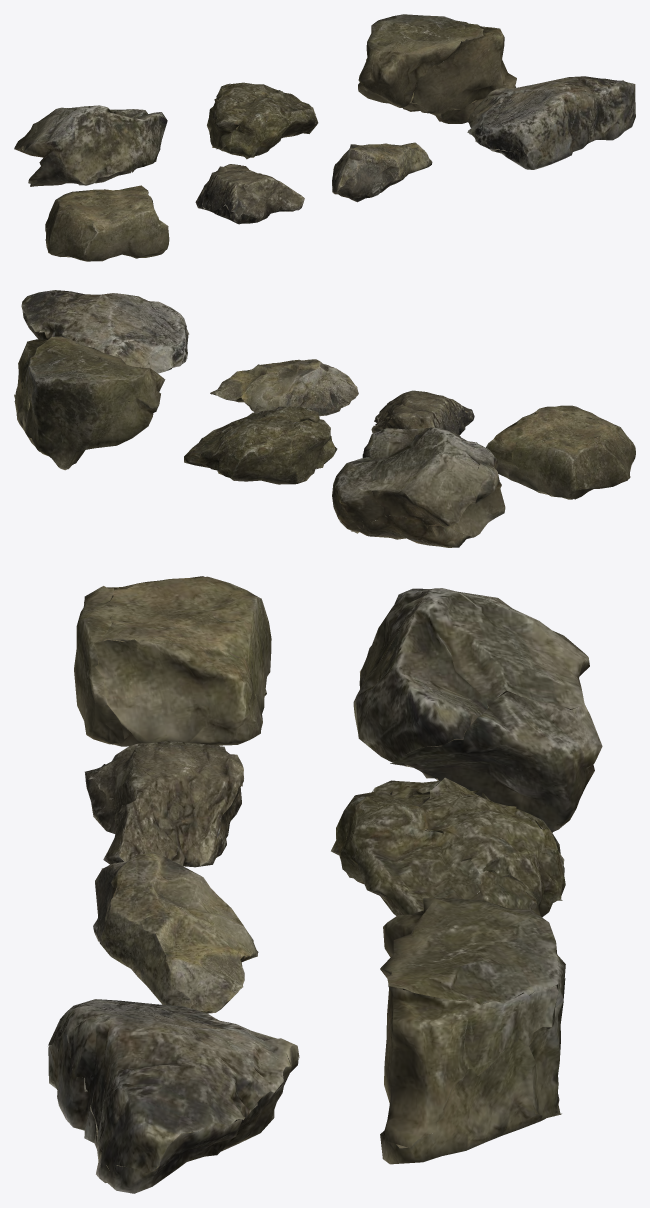
File: rock_moss_set_02.glb
3 renders of one model, top to bottom at view 1: azimuth 30°, elevation 25°; view 2: azimuth 150°, elevation 25°; view 3: azimuth 270°, elevation 25°, orthographic. The views are drawn at different scales.
Parts seen in each view (by area): view 1: rock_moss_set_02_rock13, rock_moss_set_02_rock10, rock_moss_set_02_rock11, rock_moss_set_02_rock07, rock_moss_set_02_rock12, rock_moss_set_02_rock08, rock_moss_set_02_rock09; view 2: rock_moss_set_02_rock11, rock_moss_set_02_rock13, rock_moss_set_02_rock07, rock_moss_set_02_rock10, rock_moss_set_02_rock12, rock_moss_set_02_rock09, rock_moss_set_02_rock08; view 3: rock_moss_set_02_rock13, rock_moss_set_02_rock11, rock_moss_set_02_rock10, rock_moss_set_02_rock07, rock_moss_set_02_rock12, rock_moss_set_02_rock09, rock_moss_set_02_rock08.
Part boxes in pixels (x1,y1,x2,y2): rock_moss_set_02_rock13: [358, 14, 516, 123]; rock_moss_set_02_rock10: [467, 76, 635, 169]; rock_moss_set_02_rock11: [14, 105, 167, 186]; rock_moss_set_02_rock07: [45, 185, 169, 261]; rock_moss_set_02_rock12: [207, 82, 318, 159]; rock_moss_set_02_rock08: [195, 164, 304, 224]; rock_moss_set_02_rock09: [332, 142, 432, 202]; rock_moss_set_02_rock11: [332, 427, 505, 547]; rock_moss_set_02_rock13: [14, 336, 165, 470]; rock_moss_set_02_rock07: [486, 405, 635, 499]; rock_moss_set_02_rock10: [21, 290, 189, 373]; rock_moss_set_02_rock12: [184, 406, 337, 484]; rock_moss_set_02_rock09: [210, 359, 358, 416]; rock_moss_set_02_rock08: [371, 390, 474, 435]; rock_moss_set_02_rock13: [380, 898, 565, 1164]; rock_moss_set_02_rock11: [353, 588, 602, 832]; rock_moss_set_02_rock10: [48, 999, 299, 1193]; rock_moss_set_02_rock07: [74, 576, 271, 746]; rock_moss_set_02_rock12: [331, 777, 565, 917]; rock_moss_set_02_rock09: [93, 851, 258, 1013]; rock_moss_set_02_rock08: [85, 741, 243, 867].
Bounding box in the file's own units: 8.27 × 1.36 × 3.41.
1 material, 1 textured.
